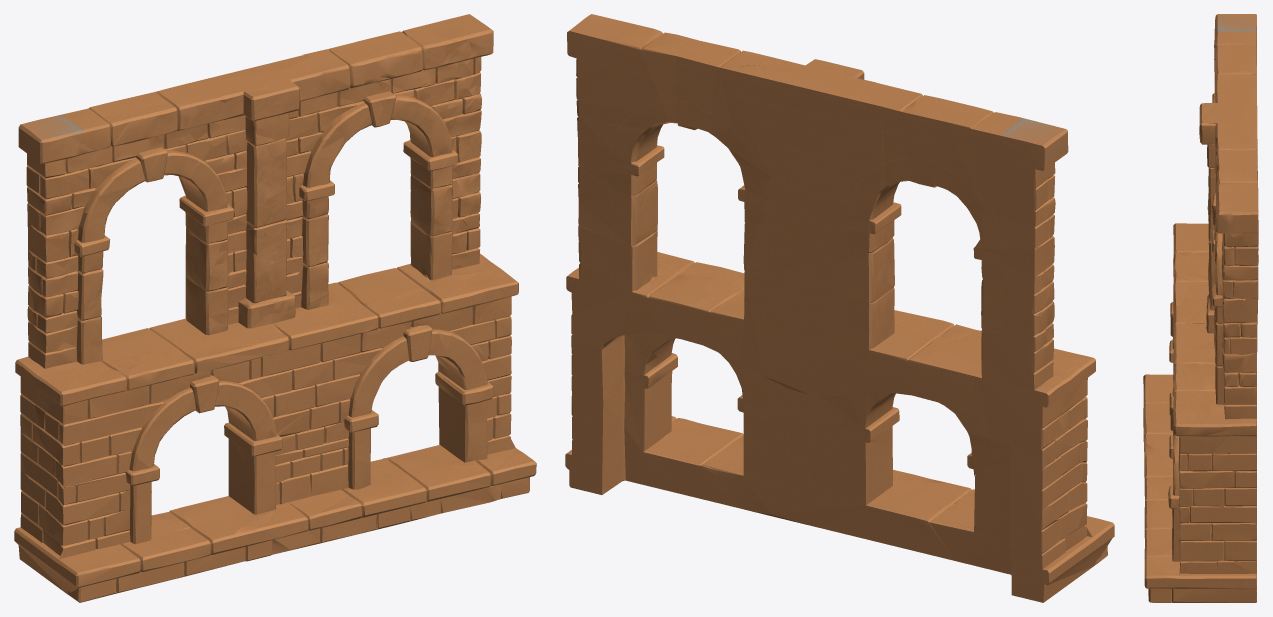
Rendered from arcade_upper.glb.
3 renders of one model, left to right at view 1: azimuth 30°, elevation 25°; view 2: azimuth 150°, elevation 25°; view 3: azimuth 270°, elevation 25°, orthographic. The views are drawn at different scales.
Size of the model in its own units: 1.9 by 1.71 by 0.4564.
1 material, 1 textured.
